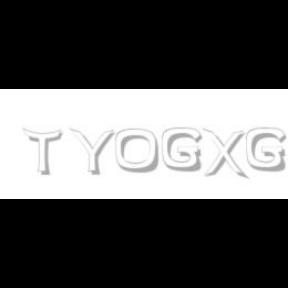G: (162, 128, 202, 172), (246, 128, 286, 172)
O: (114, 128, 160, 174)
T: (22, 128, 62, 176)
X: (202, 128, 246, 180)
Y: (69, 128, 115, 176)
